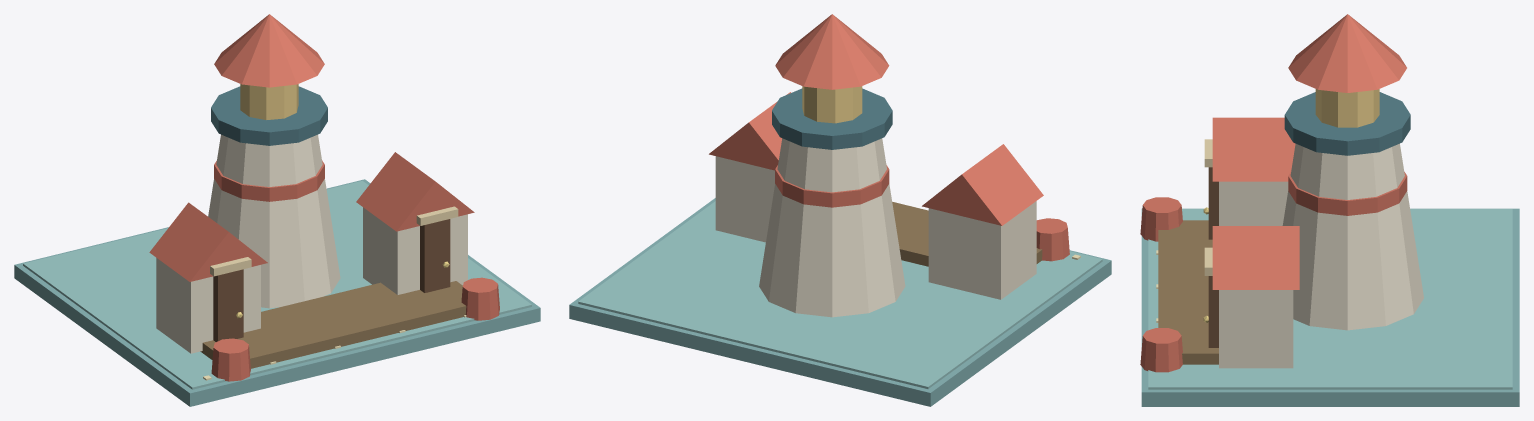
Rendered from tower-lv2.obj.
3 views of the same model, side by side, from view 1: azimuth 30°, elevation 25°; view 2: azimuth 150°, elevation 25°; view 3: azimuth 270°, elevation 25° (orthographic). The views are drawn at different scales.
Visible parts, largest first — view 1: tower_3, tower_4, tower_1, tower_8, tower_0, tower_9, tower_5, tower_6, tower_10; view 2: tower_1, tower_3, tower_4, tower_0, tower_5, tower_6, tower_8; view 3: tower_1, tower_3, tower_4, tower_0, tower_8, tower_5, tower_6, tower_9, tower_10.
Boxes of the visible parts, x1,y1,x2,y2 form: tower_3: (156,134,467,353); tower_4: (149,14,499,381); tower_1: (23,181,531,389); tower_8: (200,281,466,368); tower_0: (14,179,540,406); tower_9: (213,219,450,341); tower_5: (211,86,327,145); tower_6: (240,84,298,119); tower_10: (210,206,458,276); tower_1: (578,201,1102,388); tower_3: (715,138,1036,317); tower_4: (709,14,1069,261); tower_0: (569,198,1111,406); tower_5: (772,88,892,149); tower_6: (802,86,862,123); tower_8: (892,202,1042,266); tower_1: (1148,209,1512,389); tower_3: (1219,143,1423,368); tower_4: (1140,14,1407,372); tower_0: (1141,208,1519,406); tower_8: (1158,220,1218,364); tower_5: (1284,92,1410,155); tower_6: (1315,89,1379,127); tower_9: (1208,167,1218,347); tower_10: (1204,139,1212,275).
Size of the model in its own units: 3.8 by 2.9 by 3.31.
